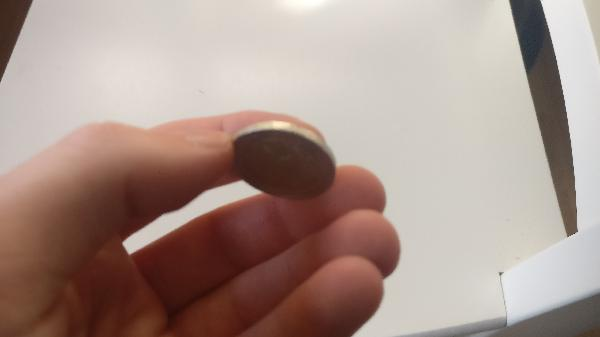Two Euro: (224, 123, 337, 203)
